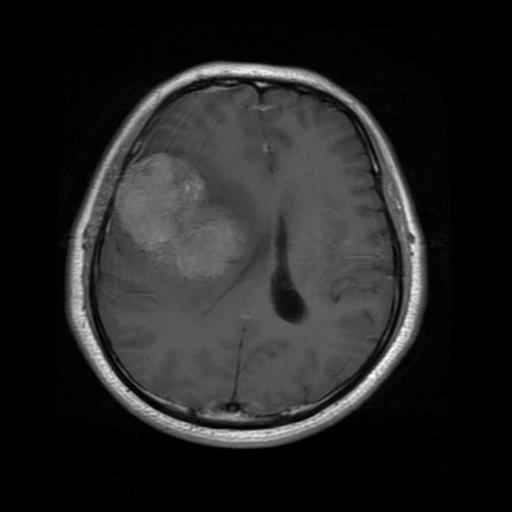Tumour-Pituitary: (119, 151, 255, 279)
